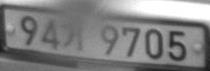0: (144, 27, 163, 59)
4: (41, 17, 60, 50)
5: (167, 30, 187, 61)
7: (121, 26, 140, 56)
9: (99, 24, 119, 55), (19, 14, 38, 45)
거: (61, 21, 83, 51)
